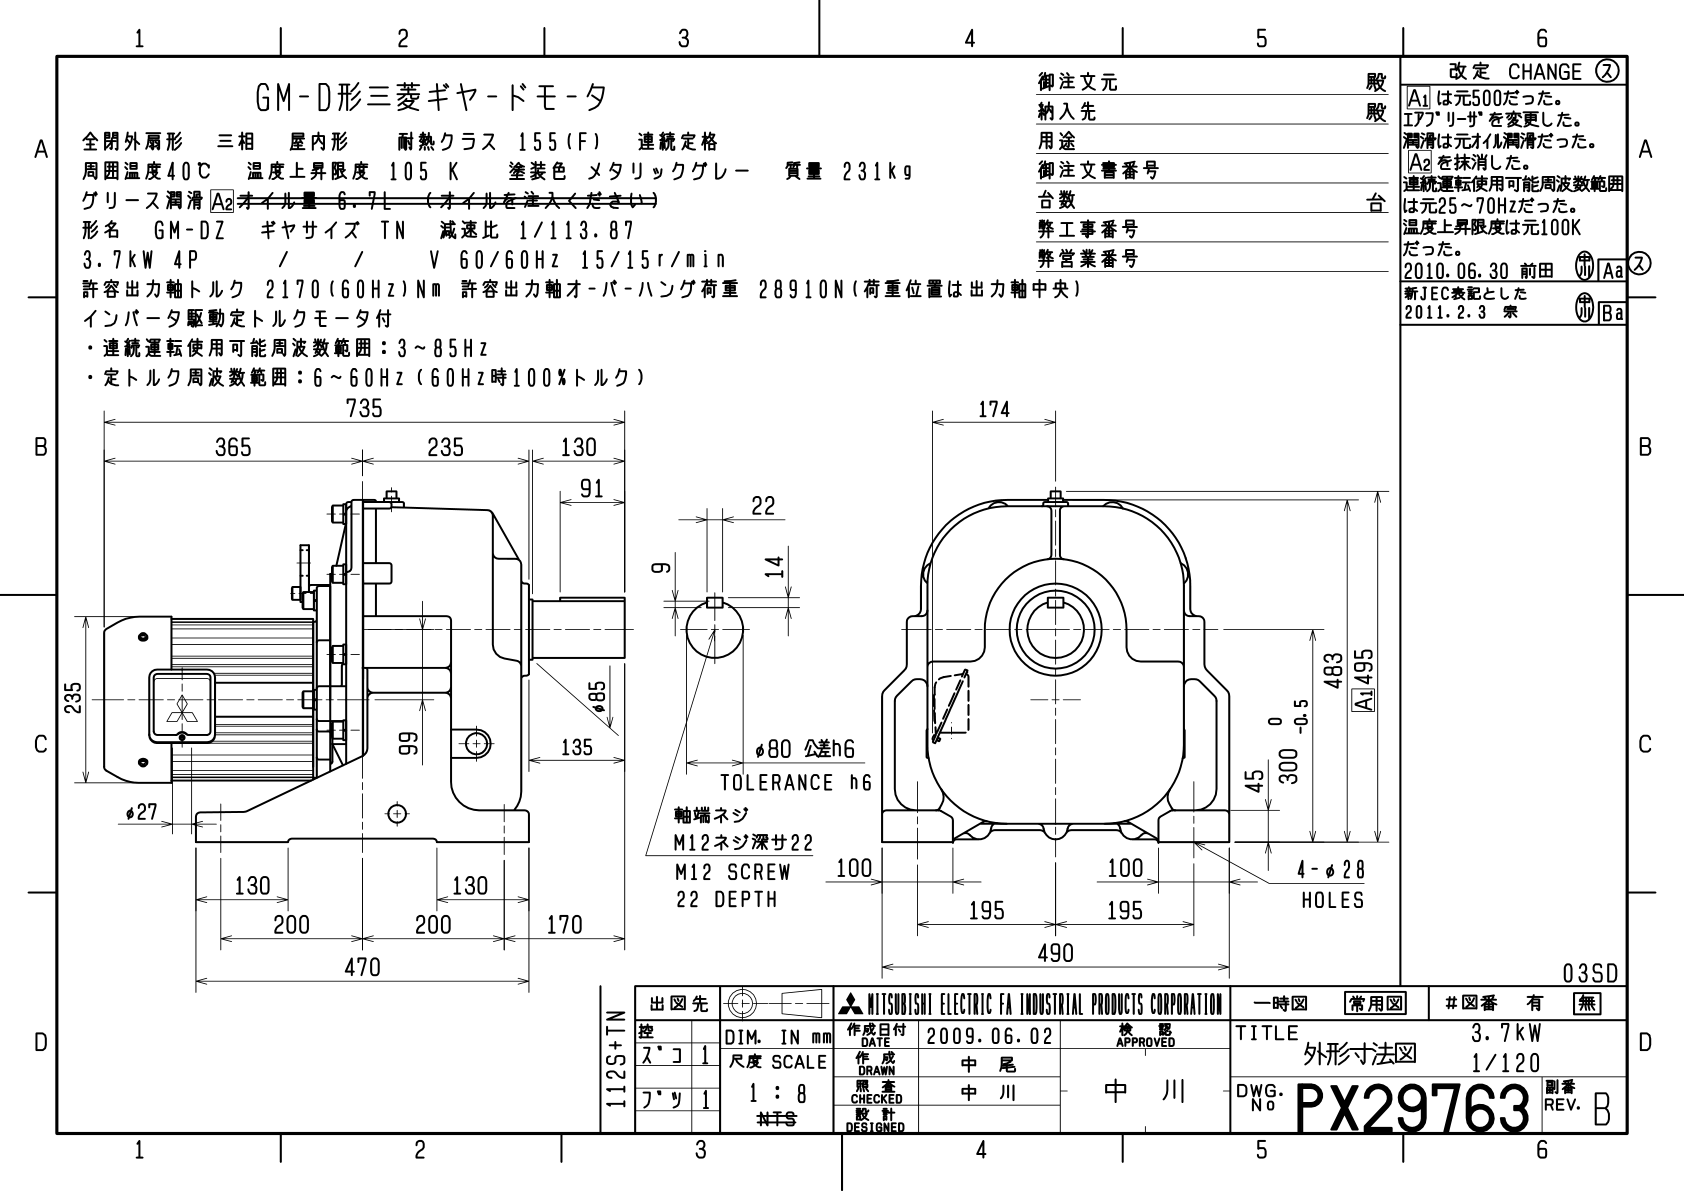GM_D_インバータ屋内_三相_脚: (58, 391, 1392, 974)
